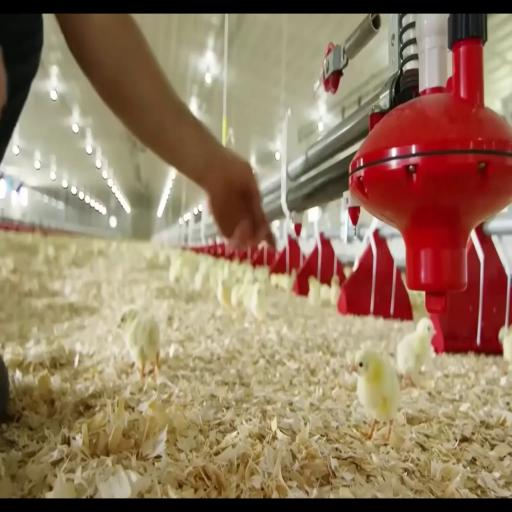chick: (351, 349, 400, 442), (118, 307, 159, 378), (396, 318, 435, 386), (249, 283, 263, 319), (499, 326, 511, 367), (217, 275, 231, 308), (308, 276, 320, 305), (168, 260, 182, 284), (330, 275, 340, 305), (231, 285, 243, 307), (320, 284, 330, 304)
